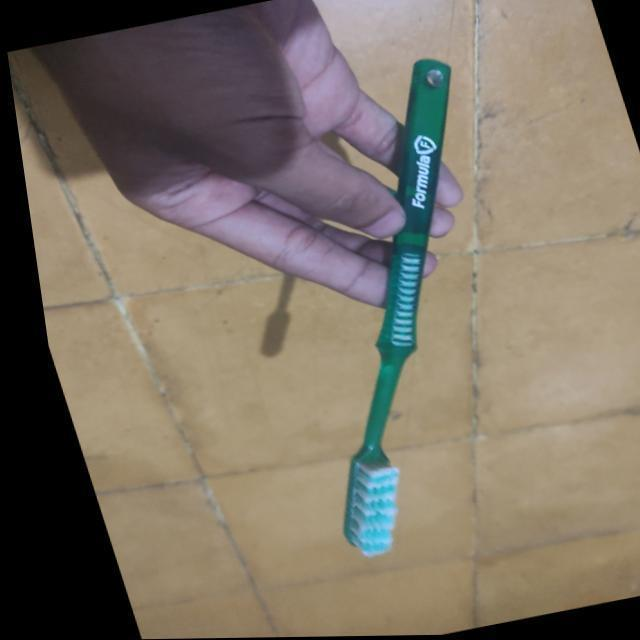toothbrush: (301, 38, 480, 576)
